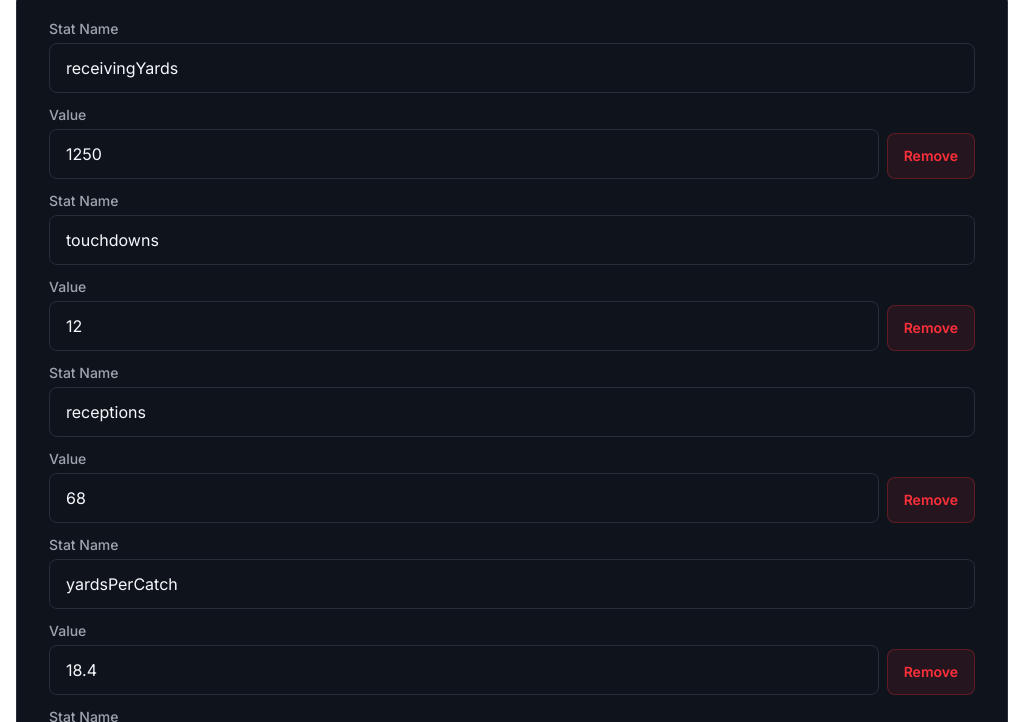
Scenario: StatsShowcase - Inline Editing › Validation (Requirements 1.5) › displays error when stat value is not a number
# Enter non-numeric value
Replace the text in the 1st field labelled "Value" with "abc": (464, 154) [49,129,879,179]
(page scrolled)
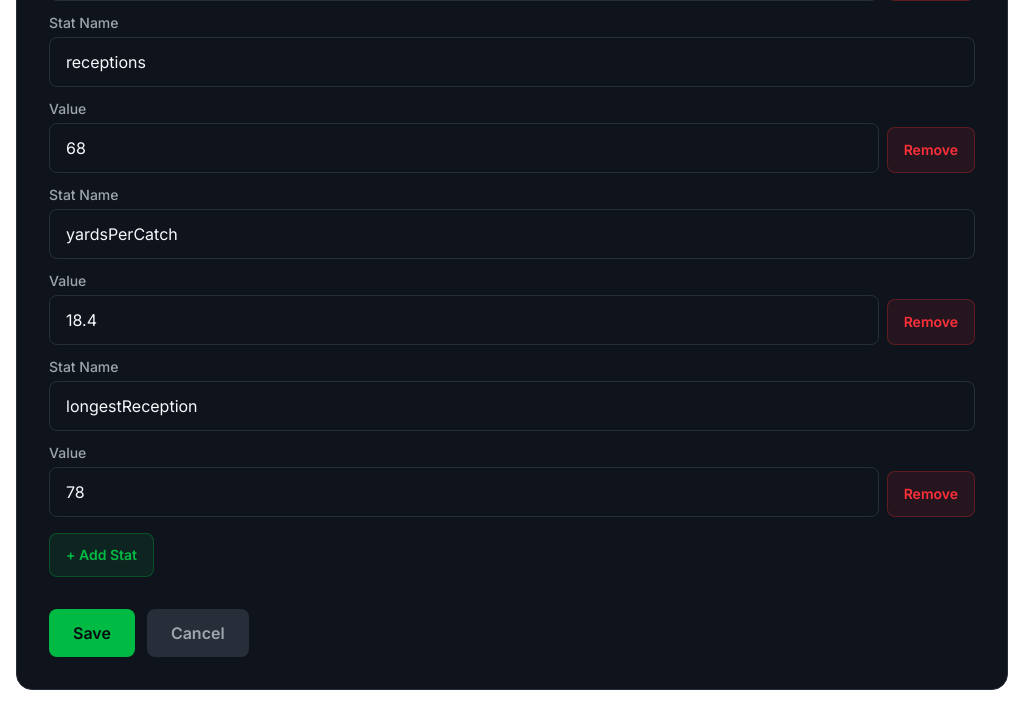
# Click save
Click the button "Save": (92, 633) [49,609,135,657]
(page scrolled)
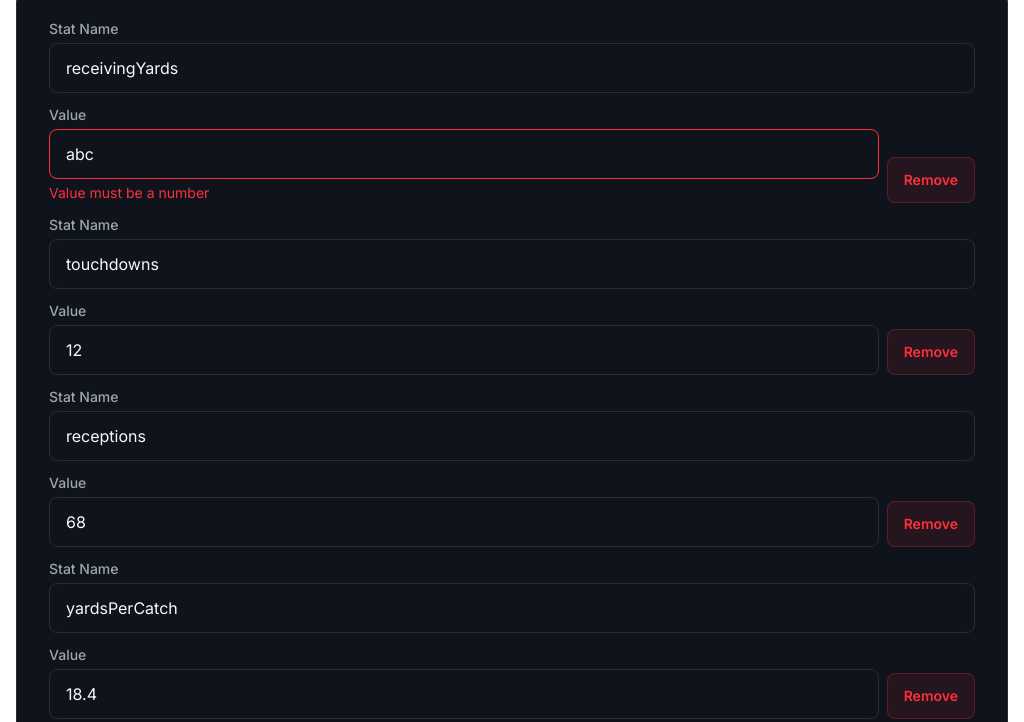
Now the text "Value must be a number" is shown, box [49,184,209,201]
